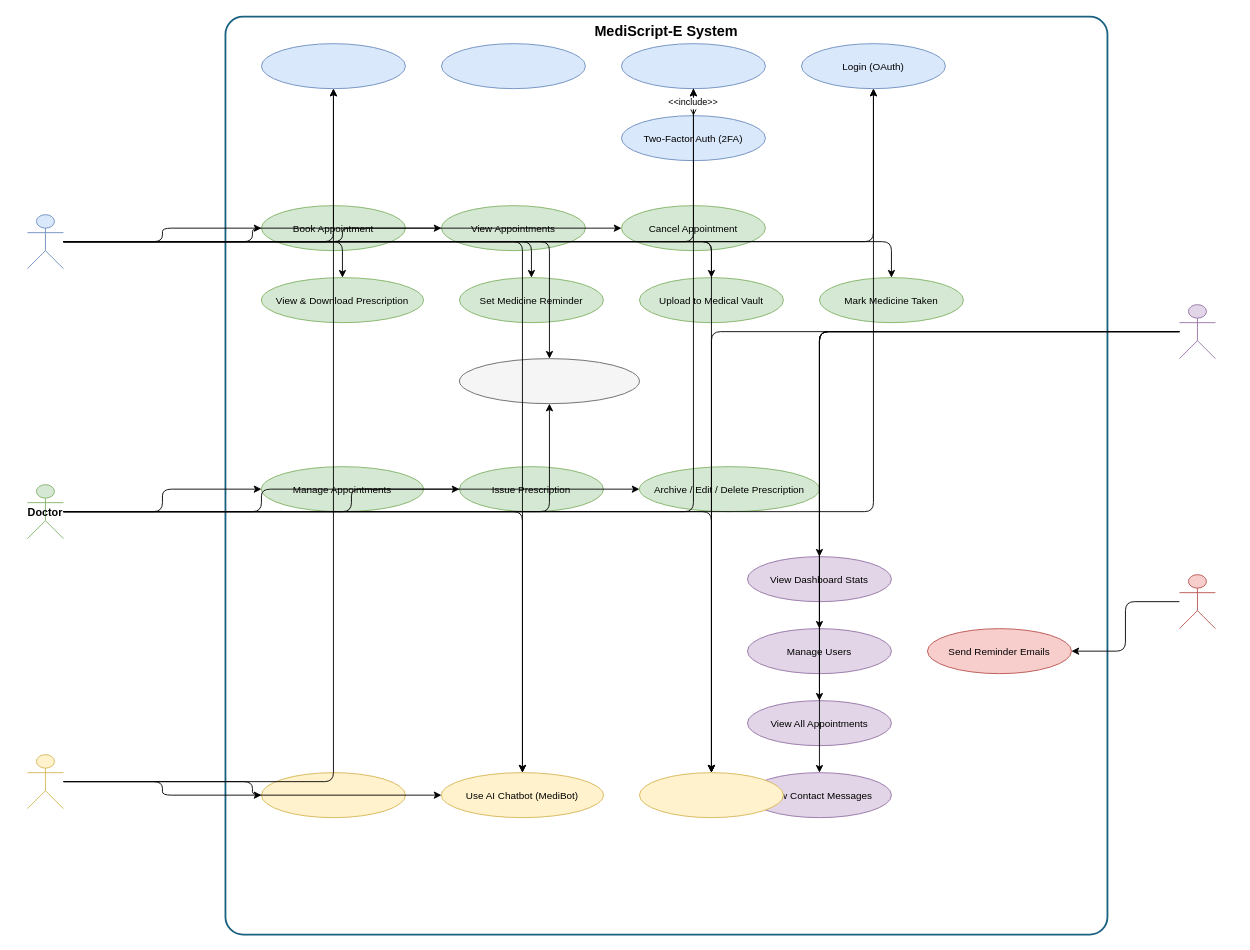
This 1250x950 diagram has some shape labels left out. Here are the shapes that lost their labels. From the top down, the centre of each, then its label:
the point at 333,66: Register Account
the point at 513,66: Verify Email
the point at 693,66: Login (Credentials)
the point at 45,241: Patient
the point at 1197,331: Admin
the point at 549,381: Update Profile / Password / 2FA
the point at 1197,601: System (Cron)
the point at 45,781: Public User
the point at 333,795: Submit Contact Form
the point at 711,795: Global Search
